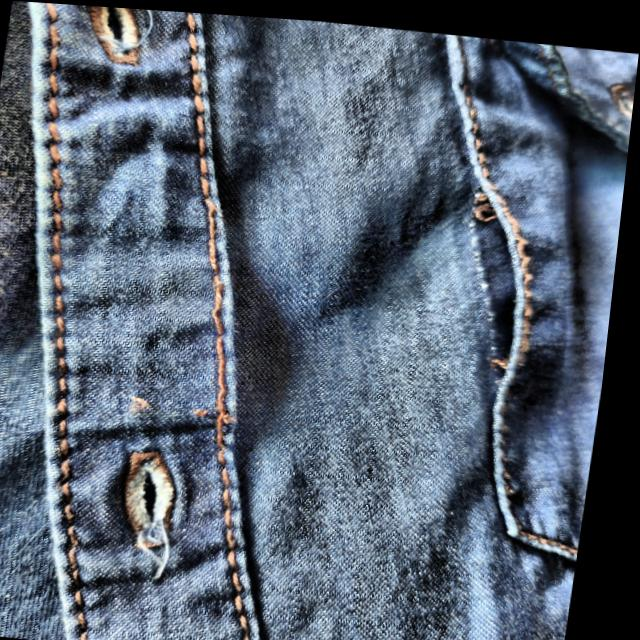seam: (432, 163, 570, 415)
